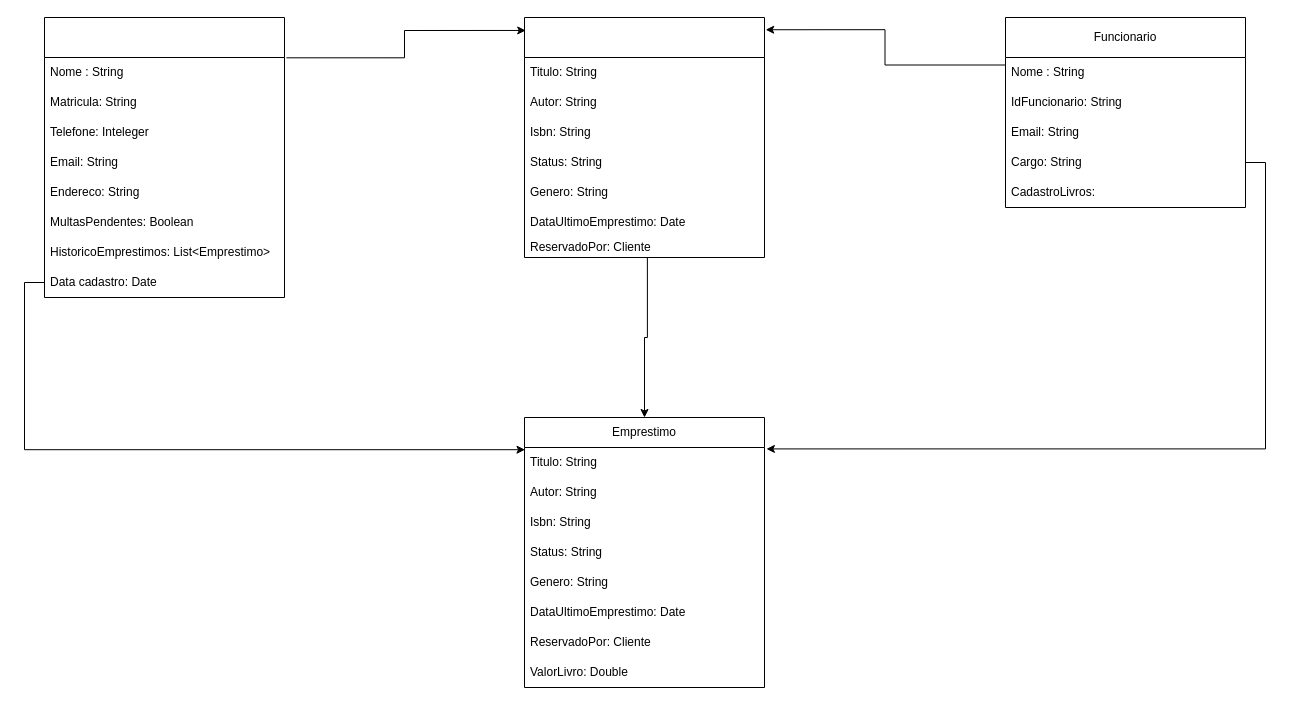
The diagram is 1291 pixels wide and 705 high, and some of its shapes have lost their labels. The box of each missing label's shape, as (x1, y1, x2, y2) in pixels:
Cliente: (44, 16, 284, 298)
Livro: (524, 16, 764, 258)
